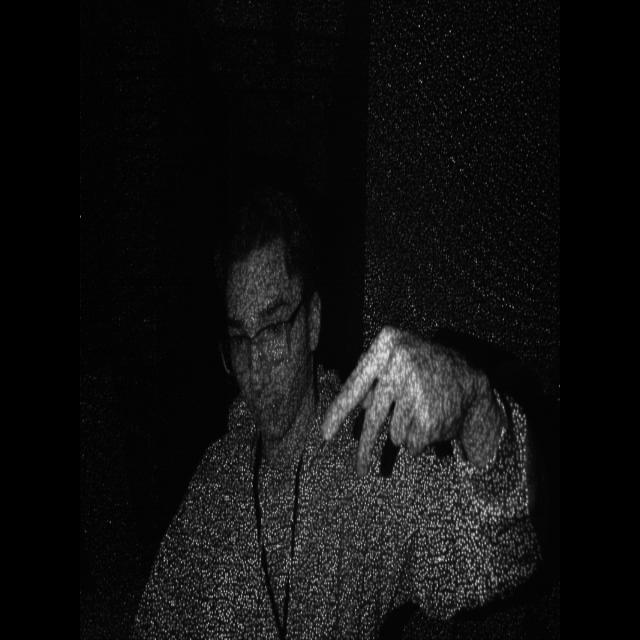P: (308, 313, 454, 477)
